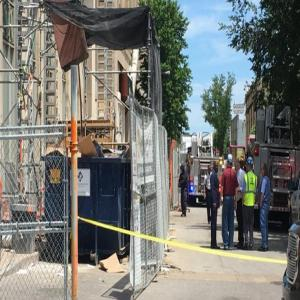blue: (247, 157, 254, 173), (228, 155, 234, 169)
none: (262, 163, 268, 177), (235, 159, 241, 173), (214, 160, 220, 174), (208, 165, 212, 174)
